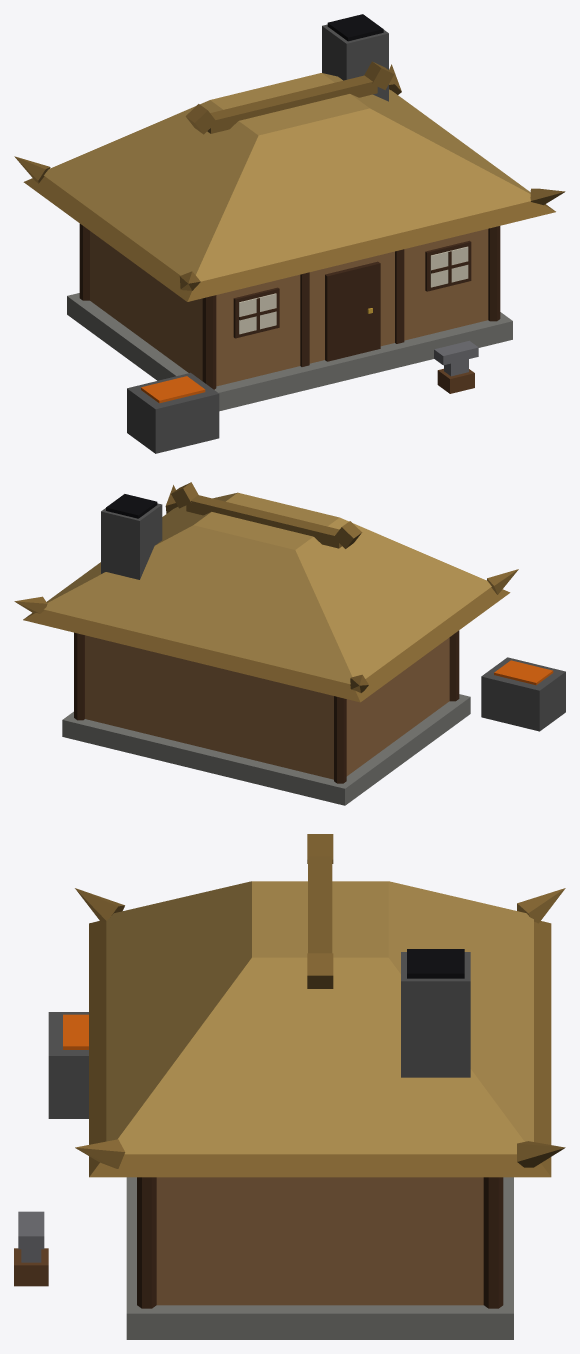
The model's file is SM_GZ_blacksmith_green.fbx.
3 renders of one model, top to bottom at view 1: azimuth 30°, elevation 25°; view 2: azimuth 150°, elevation 25°; view 3: azimuth 270°, elevation 25°, orthographic. The views are drawn at different scales.
Parts seen in each view (by area): view 1: SM_GZ_blacksmith_green; view 2: SM_GZ_blacksmith_green; view 3: SM_GZ_blacksmith_green.
Part boxes in pixels (left/top/right/bottom): SM_GZ_blacksmith_green: left=14, top=14, right=565, bottom=453; SM_GZ_blacksmith_green: left=14, top=482, right=565, bottom=805; SM_GZ_blacksmith_green: left=14, top=834, right=565, bottom=1339.
Bounding box in the file's own units: 1182 × 660 × 955.
